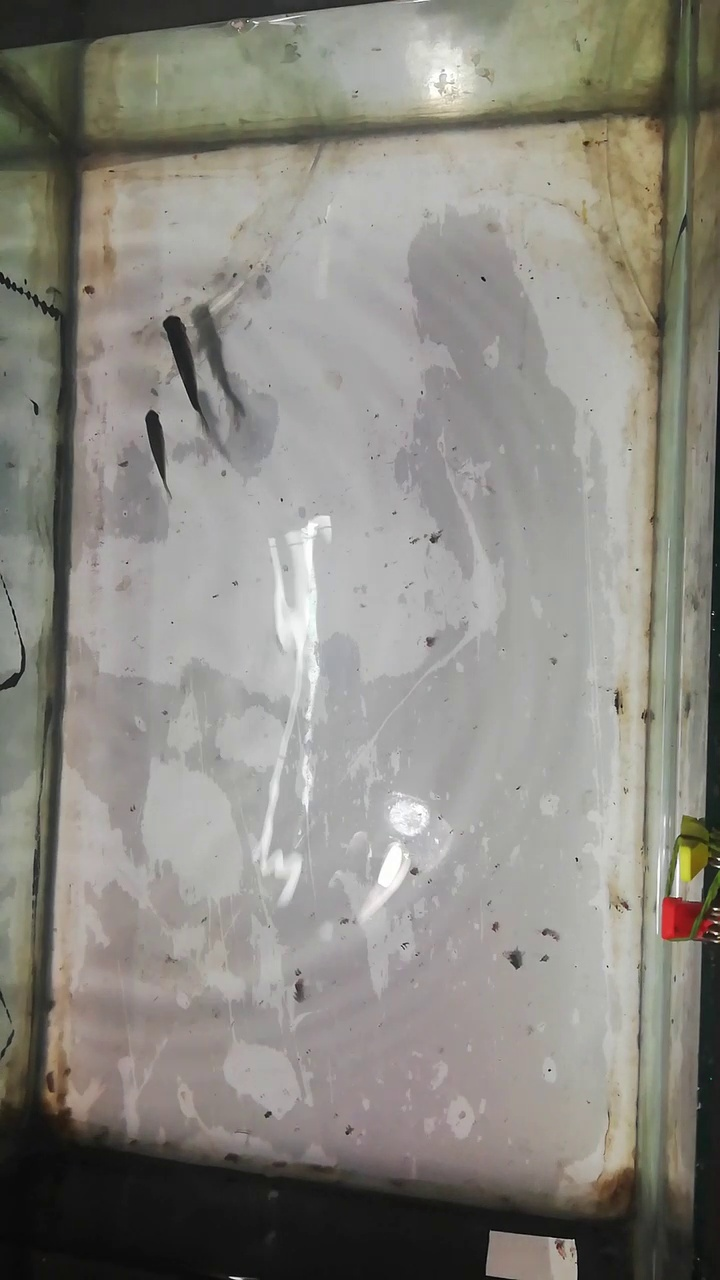fish1: (164, 313, 214, 432)
fish2: (144, 406, 175, 488)
